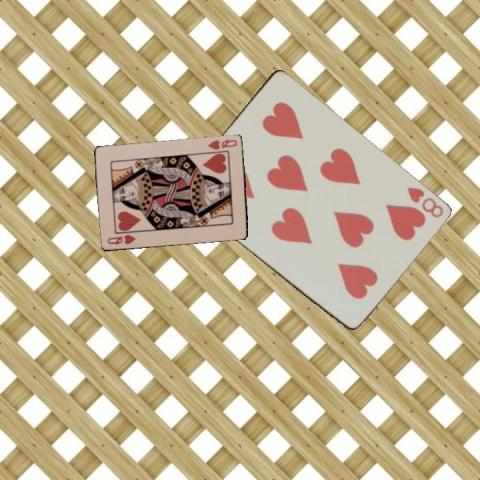8h: (404, 184, 445, 219)
Qh: (205, 136, 239, 151), (105, 231, 137, 246)
